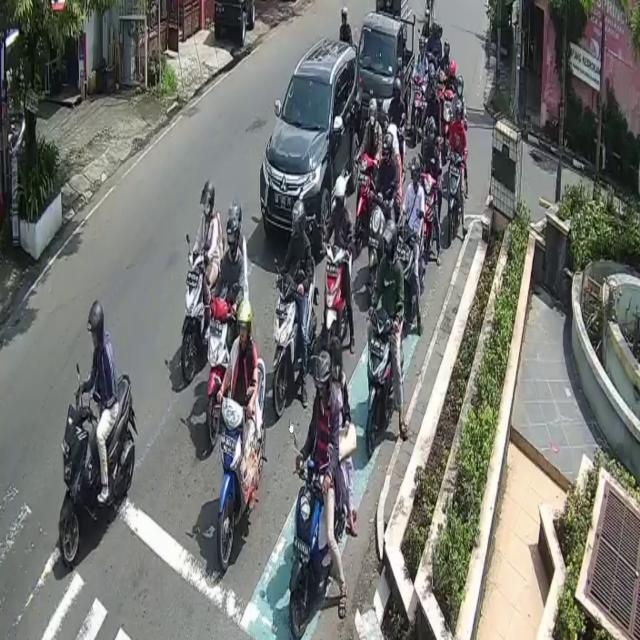car: (261, 38, 363, 250), (356, 11, 414, 138)
motorbike: (60, 373, 134, 568), (220, 356, 268, 562), (272, 264, 316, 432), (288, 458, 326, 640), (365, 307, 394, 459), (182, 253, 208, 391), (208, 296, 230, 450), (323, 244, 348, 353), (446, 150, 466, 241)
